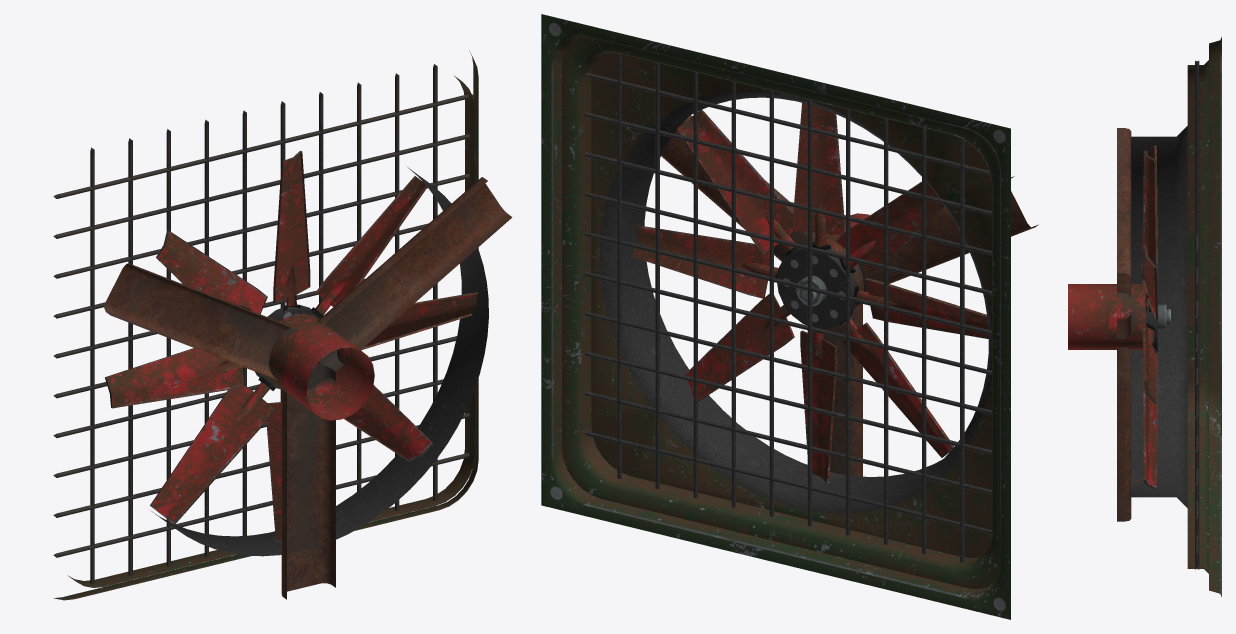
File: fan_6_mb.glb
The picture shows the model from 3 angles, left to right: view 1: azimuth 30°, elevation 25°; view 2: azimuth 150°, elevation 25°; view 3: azimuth 270°, elevation 25°; orthographic projection. The views are drawn at different scales.
Visible parts, largest first — view 1: Base, Fan1_1; view 2: Base, Fan1_1; view 3: Base, Fan1_1.
Part boxes in pixels (box(x1,y1,x2,y2)): Base: box(53, 50, 512, 600); Fan1_1: box(105, 150, 478, 541); Base: box(541, 14, 1038, 619); Fan1_1: box(632, 103, 988, 483); Base: box(1068, 37, 1221, 596); Fan1_1: box(1142, 145, 1170, 488).
Bounding box in the file's own units: 19.22 × 19.22 × 6.49.
Materials: 1 (1 with a texture image).
